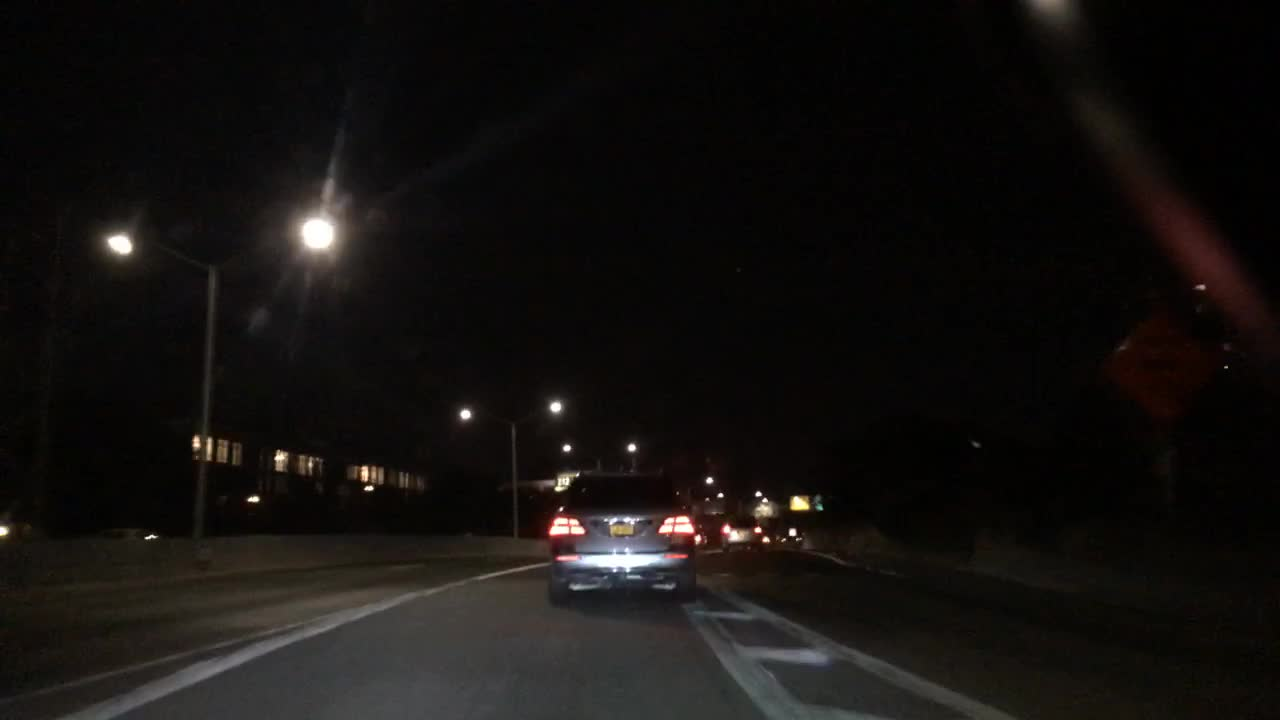car: (541, 468, 700, 612), (718, 509, 767, 552), (779, 522, 804, 549), (693, 520, 709, 551)
traffic sign: (1099, 312, 1222, 416), (785, 494, 809, 511)
